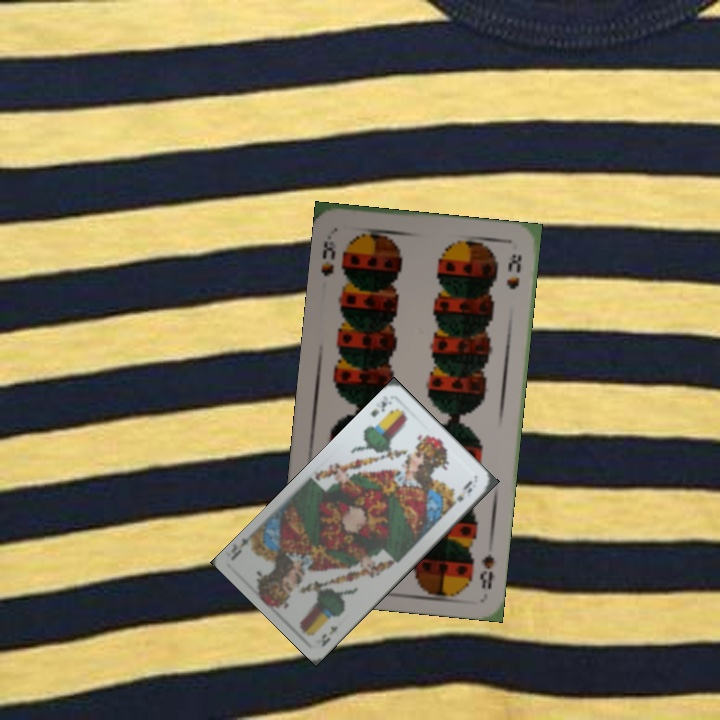EK: (367, 391, 395, 420), (317, 622, 341, 649)
S8: (317, 228, 340, 279), (475, 550, 497, 592)
